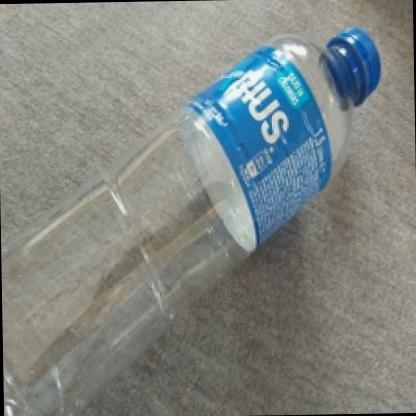plastic_bottles: (0, 23, 390, 416)
